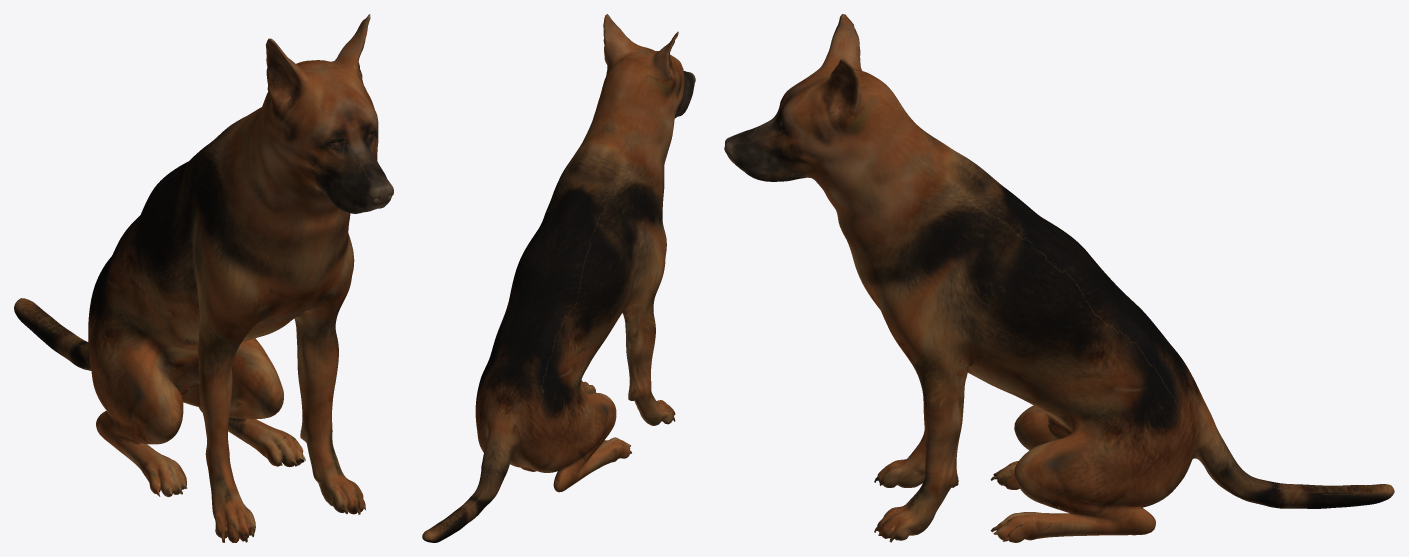
The model's file is dog.glb.
3 renders of one model, left to right at view 1: azimuth 30°, elevation 25°; view 2: azimuth 150°, elevation 25°; view 3: azimuth 270°, elevation 25°, orthographic. The views are drawn at different scales.
Parts seen in each view (by area): view 1: HIGH; view 2: HIGH; view 3: HIGH.
Boxes of the visible parts, x1,y1,x2,y2 form: HIGH: [14, 14, 393, 542]; HIGH: [422, 14, 695, 542]; HIGH: [724, 14, 1394, 542].
Size of the model in its own units: 0.3622 by 1.2 by 1.53.
Materials: 1 (1 with a texture image).
